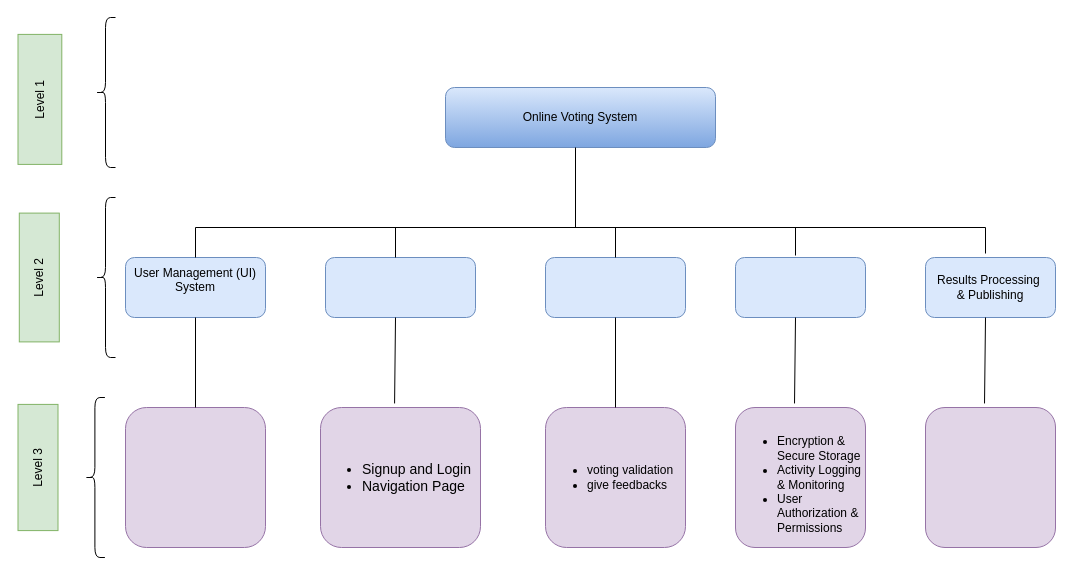
This 1073x575 diagram has some shape labels left out. Each missing label, with the centre of its shape:
"Results Calculation finalize results Confirmation Notification" goes at (990,477).
"Security Subsystem" goes at (800,287).
"Voter Authentication Module Profile Information Manager :" goes at (195,477).
"Voting Interface" goes at (400,287).
"Voting Management System" goes at (615,287).
